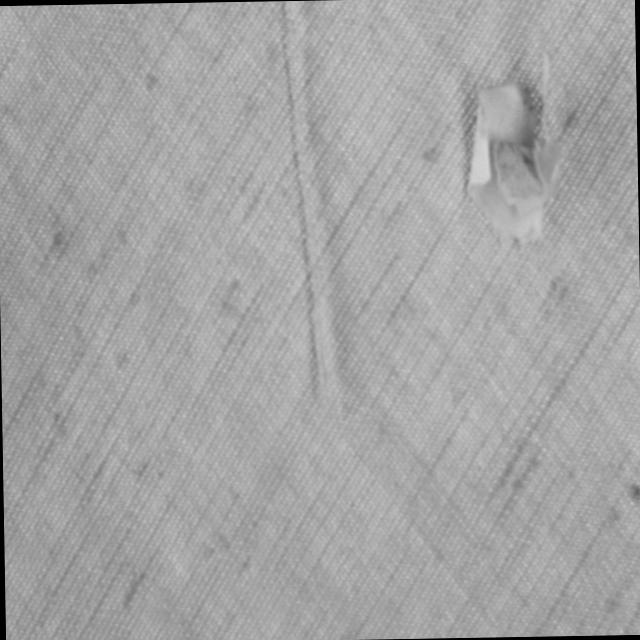objects: (269, 0, 349, 422), (459, 46, 577, 248)
